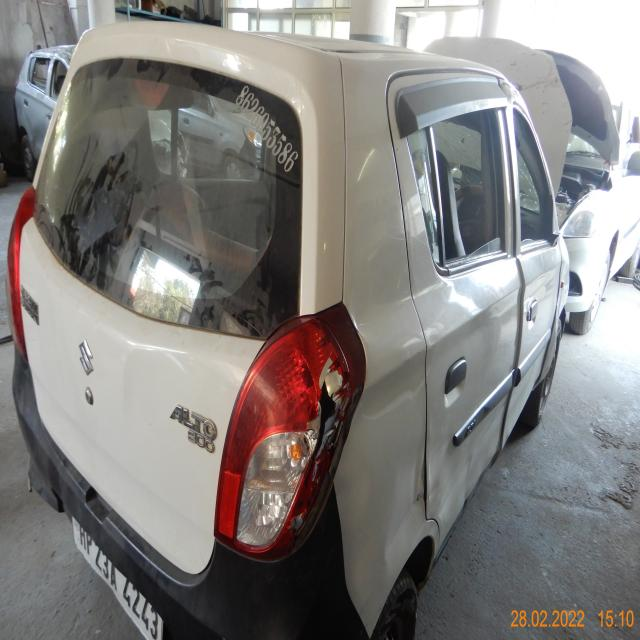damage: (306, 347, 344, 520), (430, 443, 469, 510), (411, 467, 423, 519)
